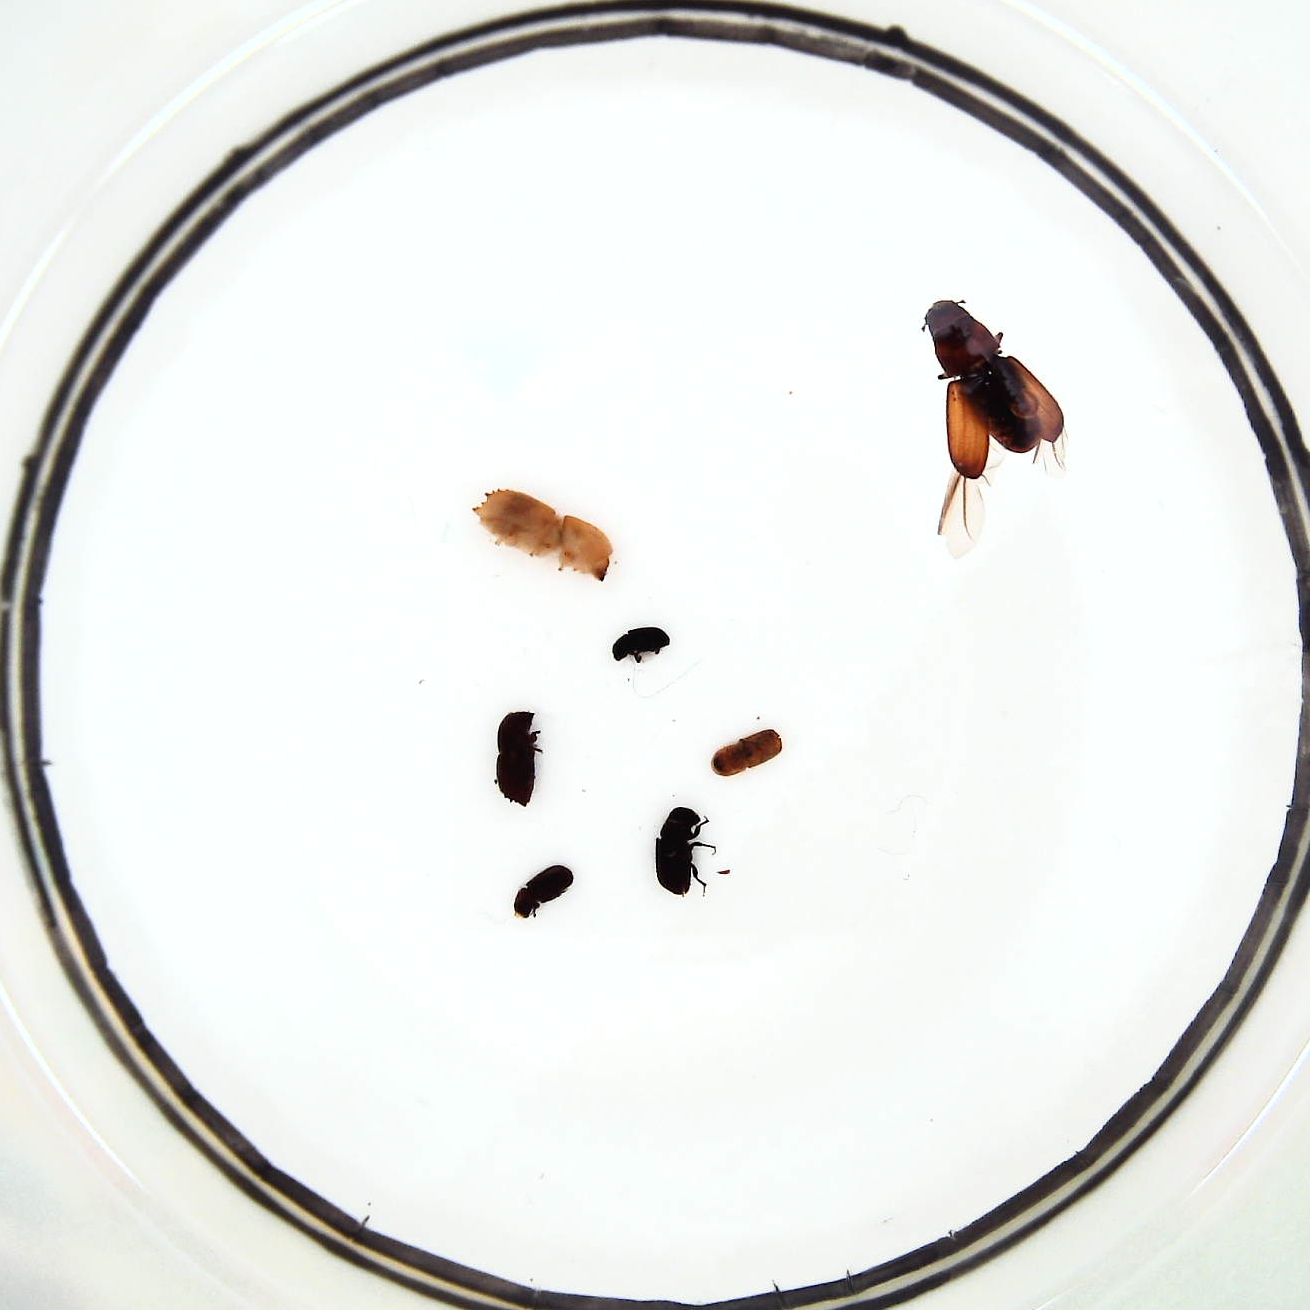Boerner: (475, 488, 613, 589)
Leconte: (925, 299, 1066, 482)
Linnaeus: (495, 711, 540, 810)
acuminatus: (708, 729, 783, 779)
armandi: (653, 805, 705, 901)
coleoptera: (513, 864, 575, 917), (609, 629, 669, 665)
